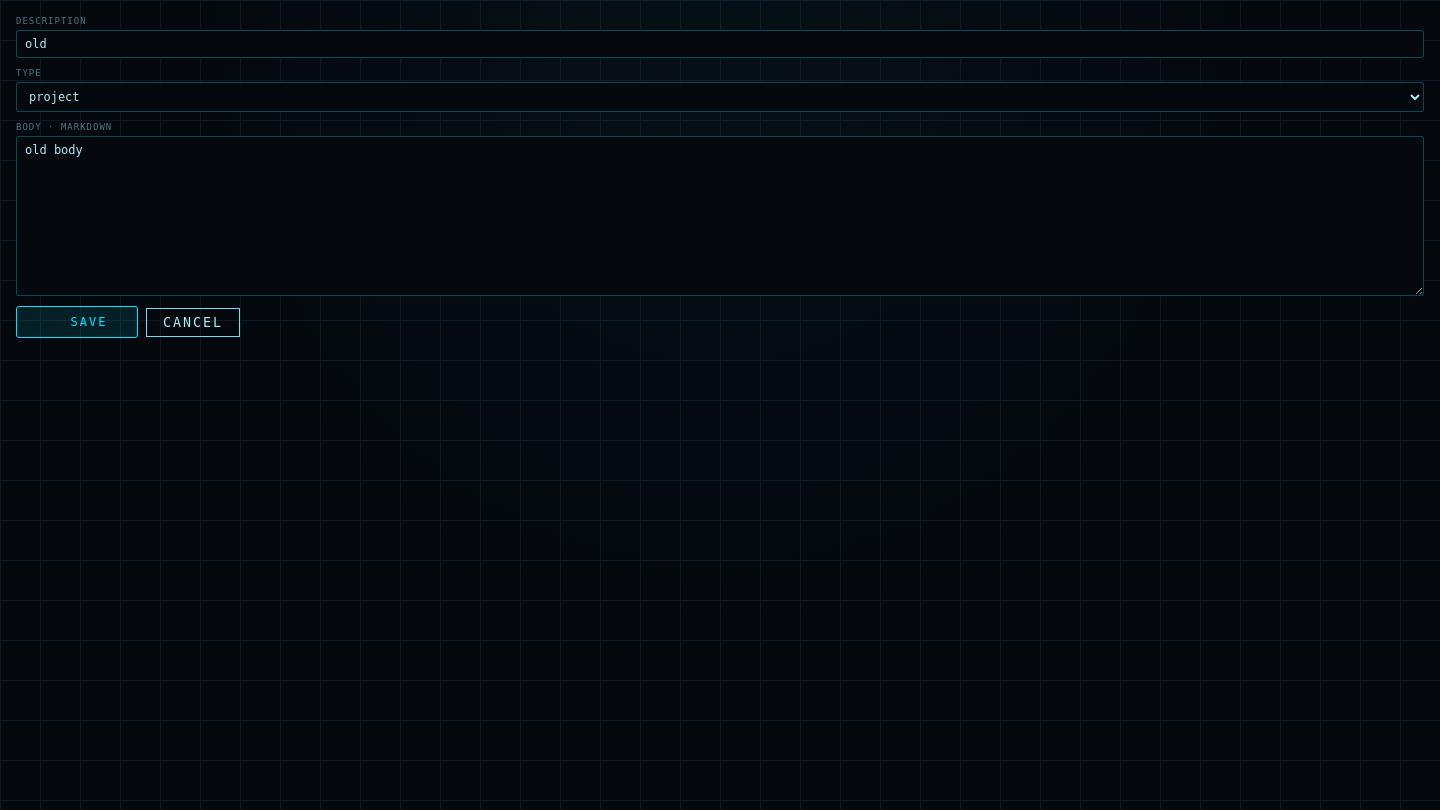
Test case: MemoryEditor › surfaces a save failure instead of silently doing nothing
This screenshot has width=1440, height=810.
Click the button with test id "editor-save".
click(77, 322)  # box [16,306,138,338]
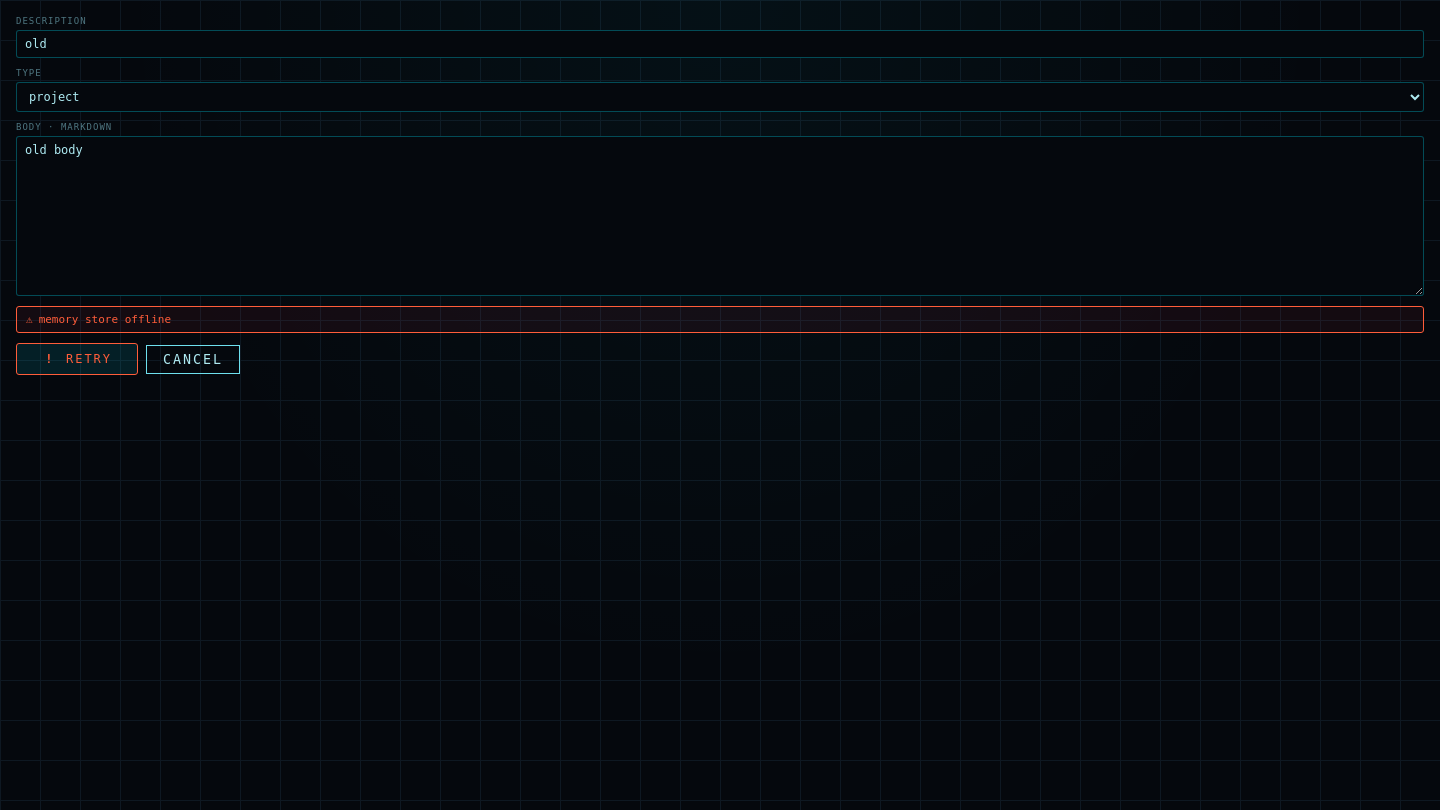
expect the button with test id "editor-save" is enabled: met, box [16,343,138,375]
expect the message with test id "editor-error" shows "memory store offline": met, box [39,313,171,326]
expect the button with test id "editor-save" shows "RETRY": met, box [16,343,138,375]
